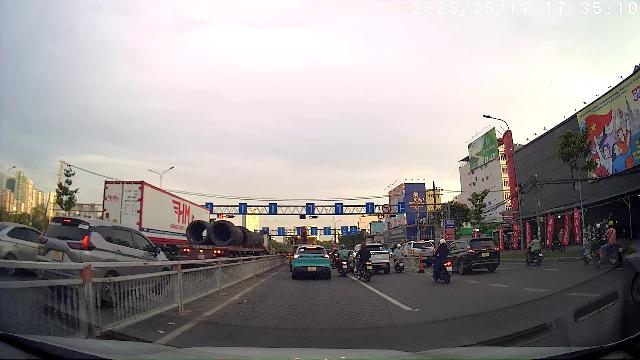123a-cam-re-trai: (382, 204, 392, 213)
